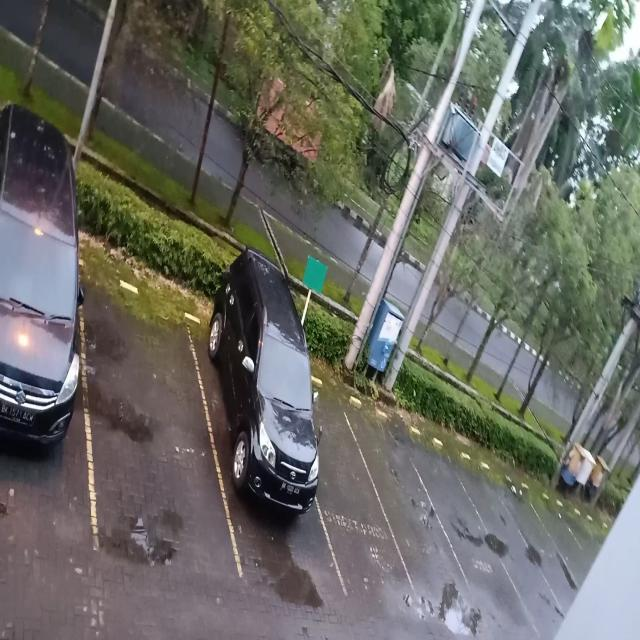empty: (82, 263, 212, 562), (319, 383, 384, 598), (381, 412, 438, 595), (436, 437, 487, 590)
occupied: (0, 192, 91, 546), (211, 300, 322, 548)
